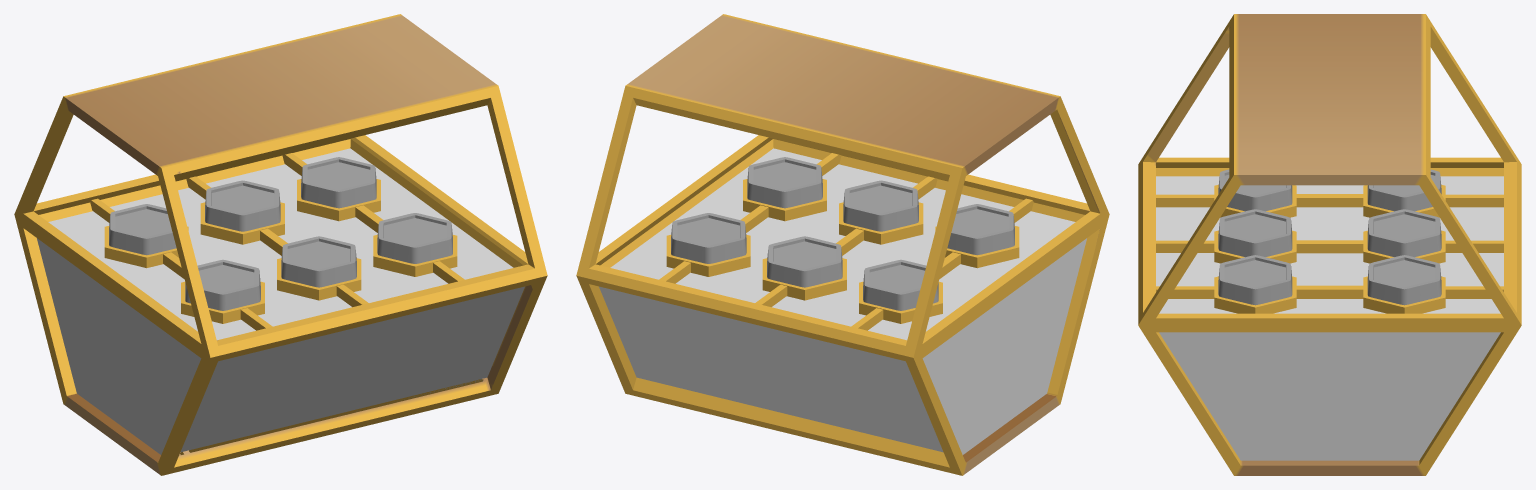
File: SM_HydroponicTank.fbx
The picture shows the model from 3 angles, left to right: view 1: azimuth 30°, elevation 25°; view 2: azimuth 150°, elevation 25°; view 3: azimuth 270°, elevation 25°; orthographic projection. The views are drawn at different scales.
Visible parts, largest first — view 1: SM_HydroponicTank; view 2: SM_HydroponicTank; view 3: SM_HydroponicTank.
Boxes of the visible parts, x1,y1,x2,y2 form: SM_HydroponicTank: [14, 14, 547, 475]; SM_HydroponicTank: [576, 14, 1109, 475]; SM_HydroponicTank: [1138, 14, 1521, 475].
Size of the model in its own units: 224 by 195 by 226.
